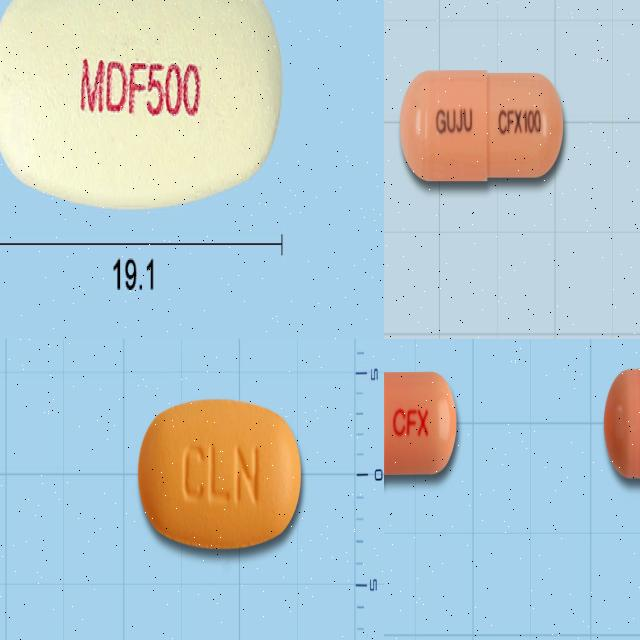Cefixime Cap- Reyon: (384, 358, 462, 488), (601, 359, 640, 484)
Cefsin Cap: (396, 63, 568, 190)
Clarid: (0, 0, 283, 217)
Criacin: (138, 400, 302, 550)
